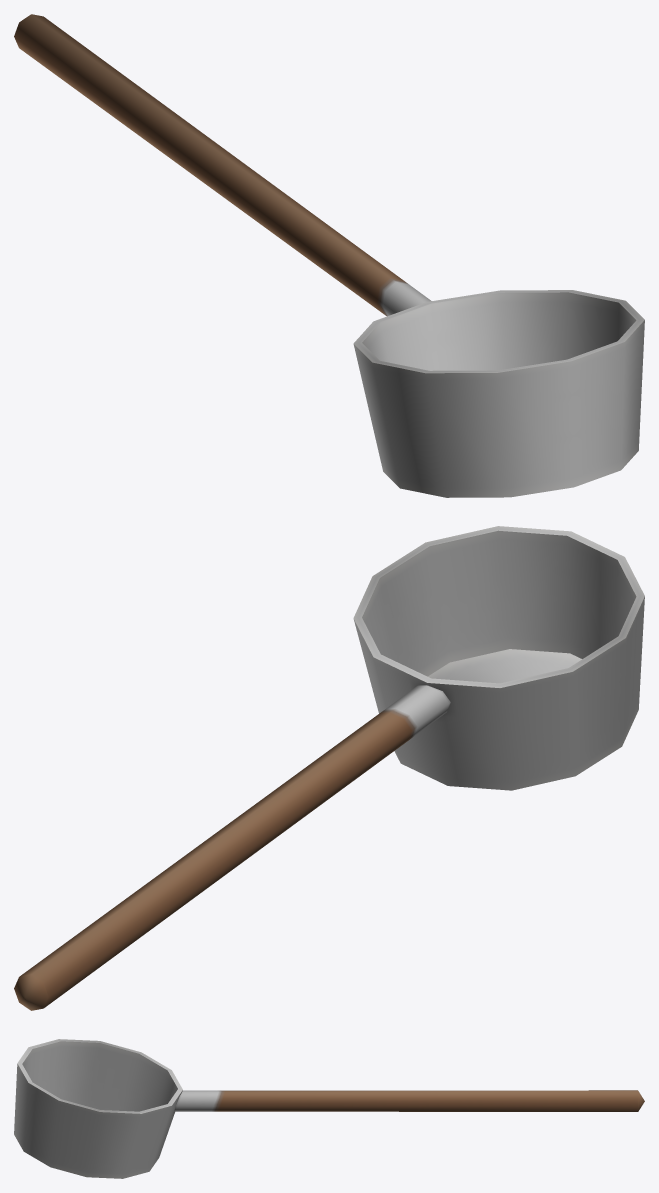
The model's file is jsf_Ladle_03.fbx.
3 views of the same model, one above another, from view 1: azimuth 30°, elevation 25°; view 2: azimuth 150°, elevation 25°; view 3: azimuth 270°, elevation 25° (orthographic). The views are drawn at different scales.
Visible parts, largest first — view 1: jsf_Ladle_03; view 2: jsf_Ladle_03; view 3: jsf_Ladle_03.
Boxes of the visible parts, x1=… form: jsf_Ladle_03: x1=14, y1=14, x2=644, y2=497; jsf_Ladle_03: x1=14, y1=526, x2=644, y2=1010; jsf_Ladle_03: x1=14, y1=1039, x2=644, y2=1178.
Bounding box in the file's own units: 14.5 × 8.98 × 54.38.
